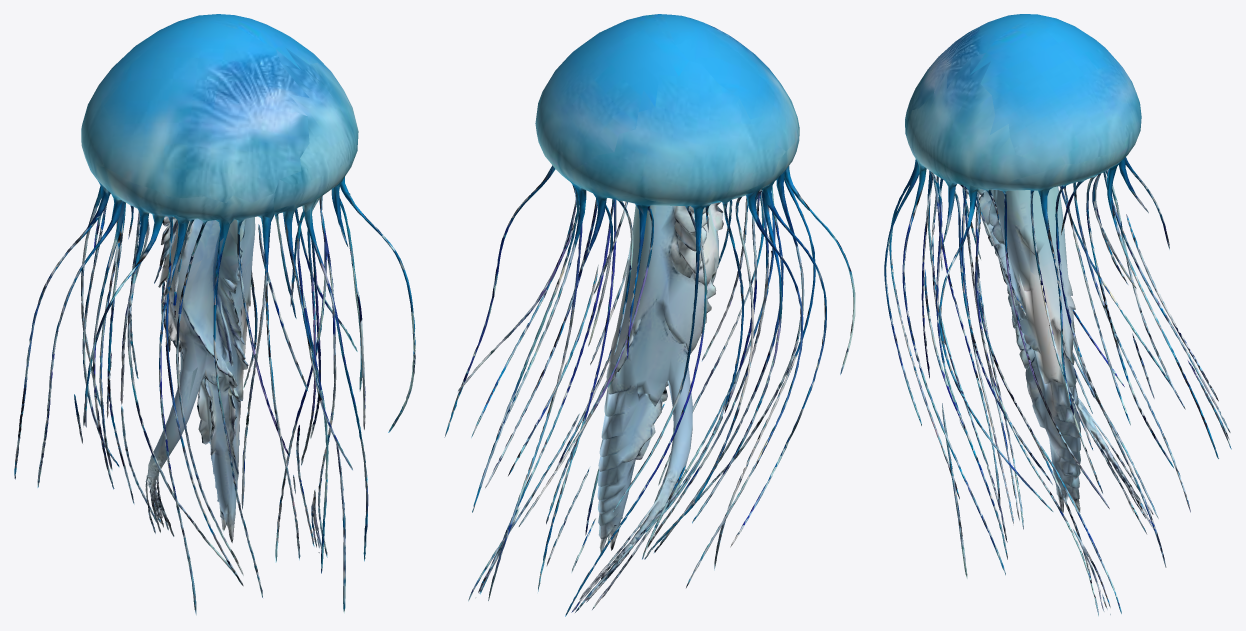
The model's file is jelly.glb.
The picture shows the model from 3 angles, left to right: view 1: azimuth 30°, elevation 25°; view 2: azimuth 150°, elevation 25°; view 3: azimuth 270°, elevation 25°; orthographic projection. The views are drawn at different scales.
Visible parts, largest first — view 1: jelly; view 2: jelly; view 3: jelly.
Boxes of the visible parts, box(x1,y1,x2,y2) form: jelly: box(14, 14, 415, 615); jelly: box(444, 14, 855, 616); jelly: box(884, 14, 1231, 616).
Size of the model in its own units: 0.6119 by 1 by 0.5932.
Materials: 1 (1 with a texture image).
